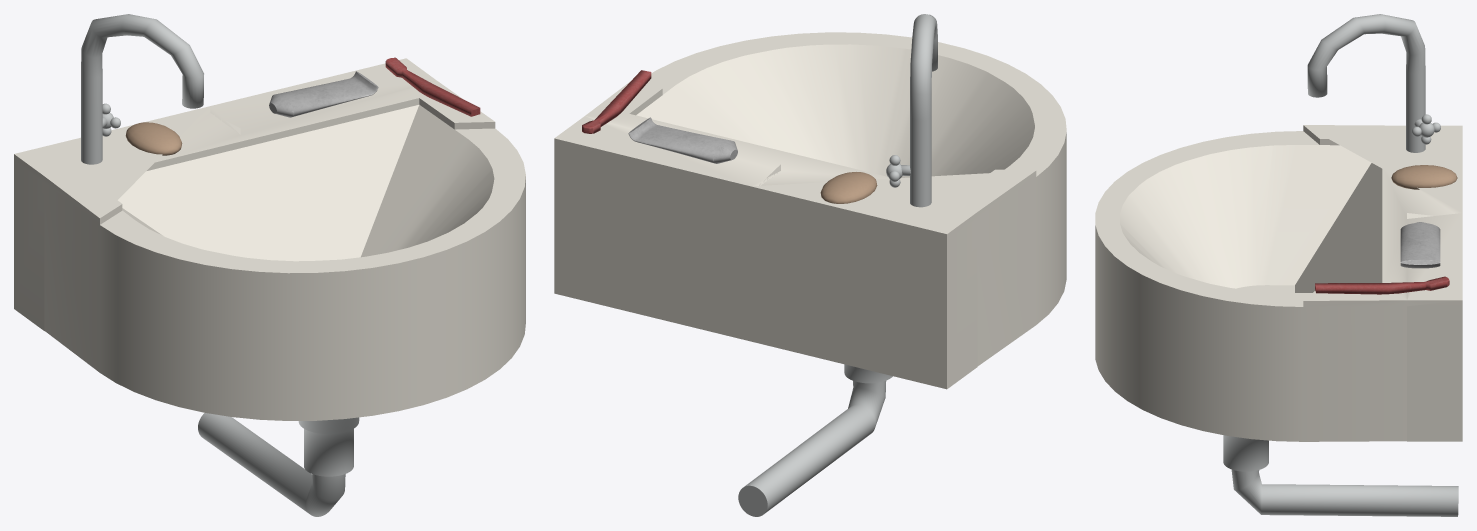
File: lavamanos.obj
The picture shows the model from 3 angles, left to right: view 1: azimuth 30°, elevation 25°; view 2: azimuth 150°, elevation 25°; view 3: azimuth 270°, elevation 25°; orthographic projection. The views are drawn at different scales.
Visible parts, largest first — view 1: pCylinder26; view 2: pCylinder26; view 3: pCylinder26.
Part boxes in pixels (x1=…): pCylinder26: x1=14, y1=14, x2=525, y2=516; pCylinder26: x1=554, y1=14, x2=1066, y2=516; pCylinder26: x1=1095, y1=14, x2=1462, y2=516.
Size of the model in its own units: 2.35 by 2.77 by 2.07.
Materials: 1 (1 with a texture image).
